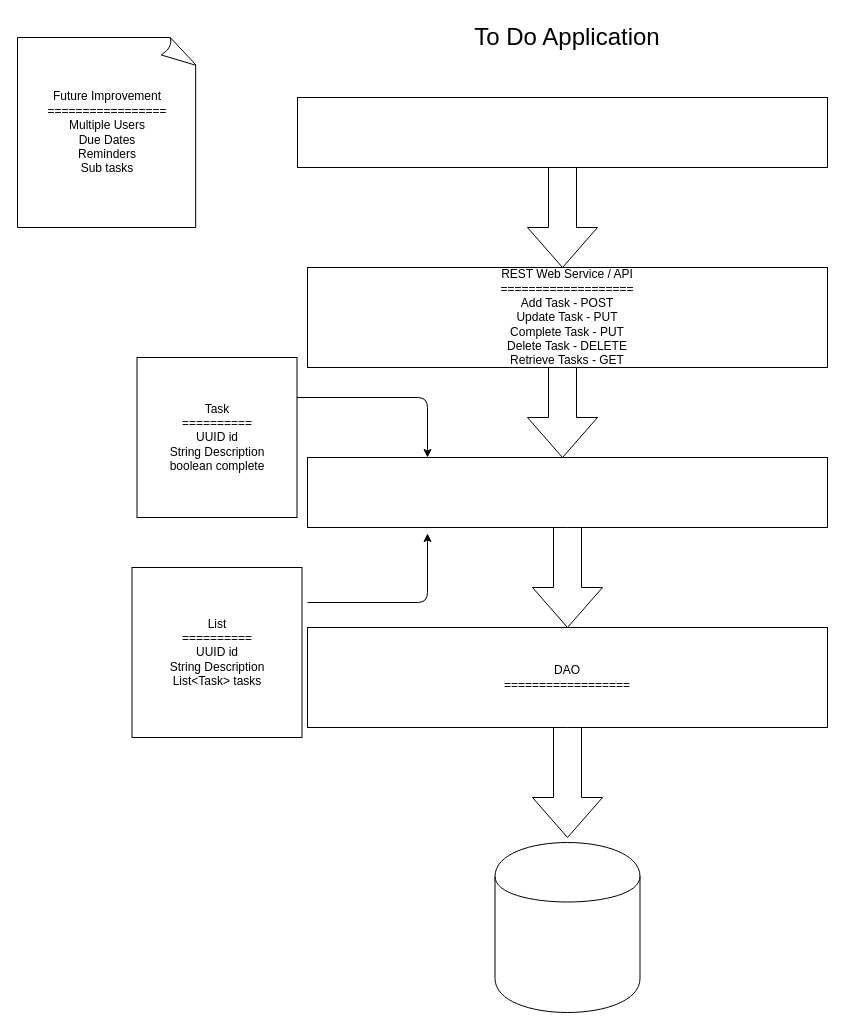
This 845x1030 diagram has some shape labels left out. Each missing label, with the box of its shape:
Application ==================: (306, 456, 828, 528)
Postgres ======== Tasks Lists Task-->Lists: (494, 842, 640, 1012)
Website: (296, 96, 828, 168)
